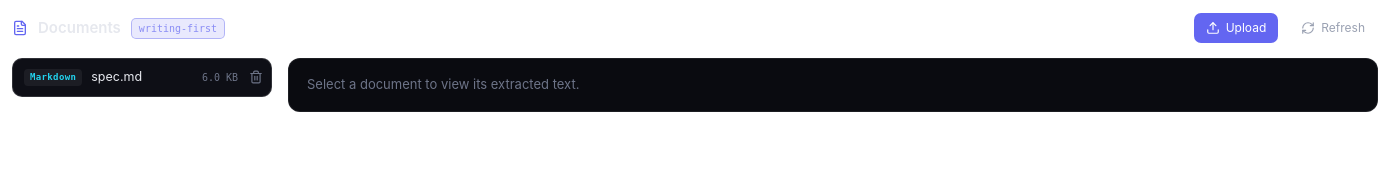
Scenario: DocumentsPanel — 4 states (loading/error/empty/list) + viewer + upload/delete › viewer: clicking a document renders its extracted text/html
Click the text "spec.md".
click(117, 76)  # box [91, 69, 142, 84]
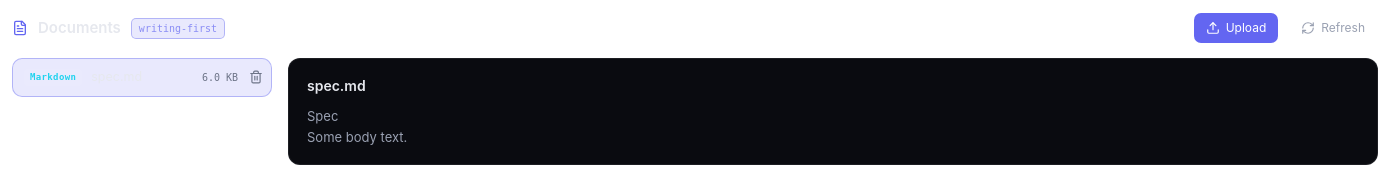
Expected: the text "Some body text." is shown, [307, 129, 407, 145]
